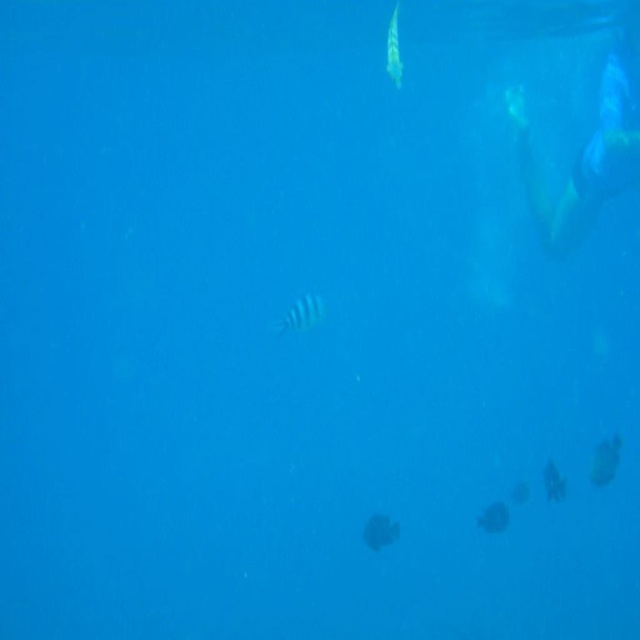Fish: (276, 278, 335, 356), (385, 1, 408, 91), (590, 433, 623, 486), (363, 513, 401, 554), (473, 500, 509, 534), (544, 460, 567, 504)
